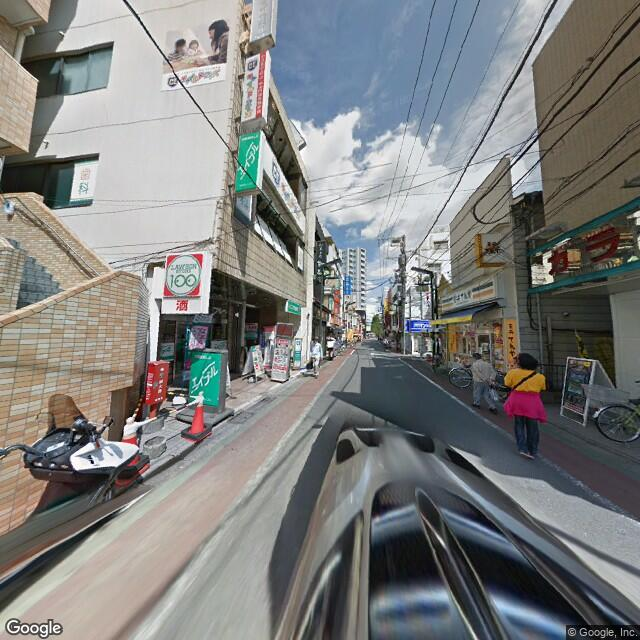lawson: (161, 251, 203, 299)
